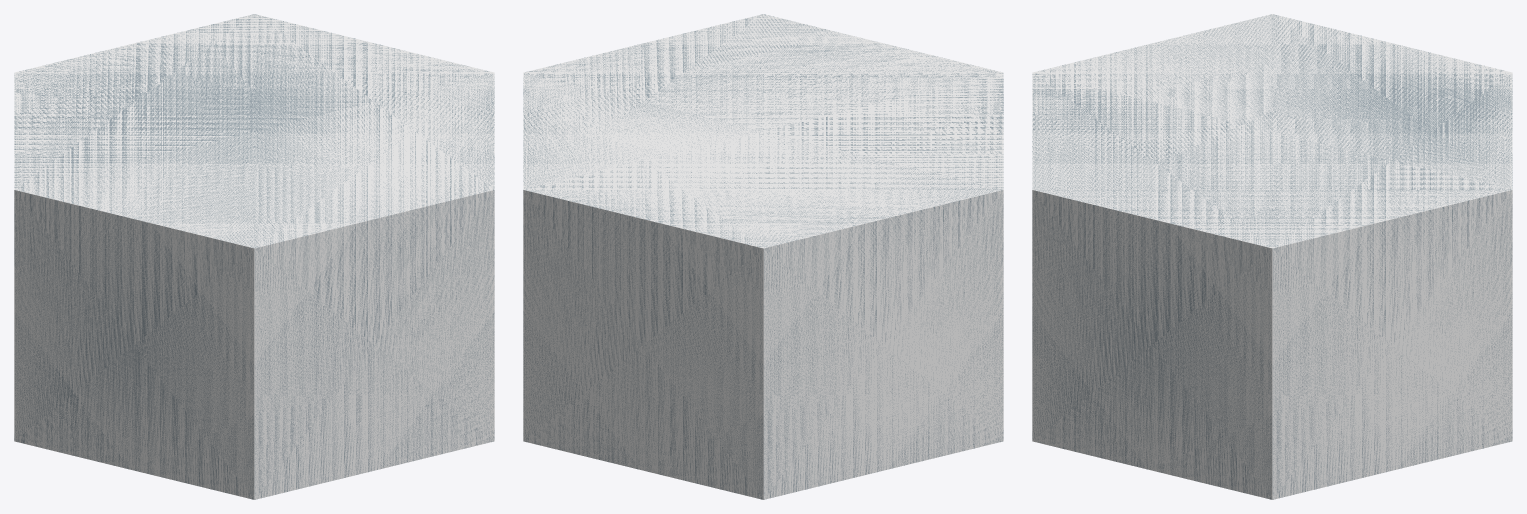
The model's file is HexPrefab.fbx.
3 renders of one model, left to right at view 1: azimuth 30°, elevation 25°; view 2: azimuth 150°, elevation 25°; view 3: azimuth 270°, elevation 25°, orthographic.
Visible parts, largest first — view 1: Model; view 2: Model; view 3: Model.
Part boxes in pixels (x1,y1,x2,y2): Model: [14, 14, 494, 499]; Model: [523, 14, 1003, 499]; Model: [1032, 14, 1512, 499].
Bounding box in the file's own units: 3 × 1.5 × 2.6.
